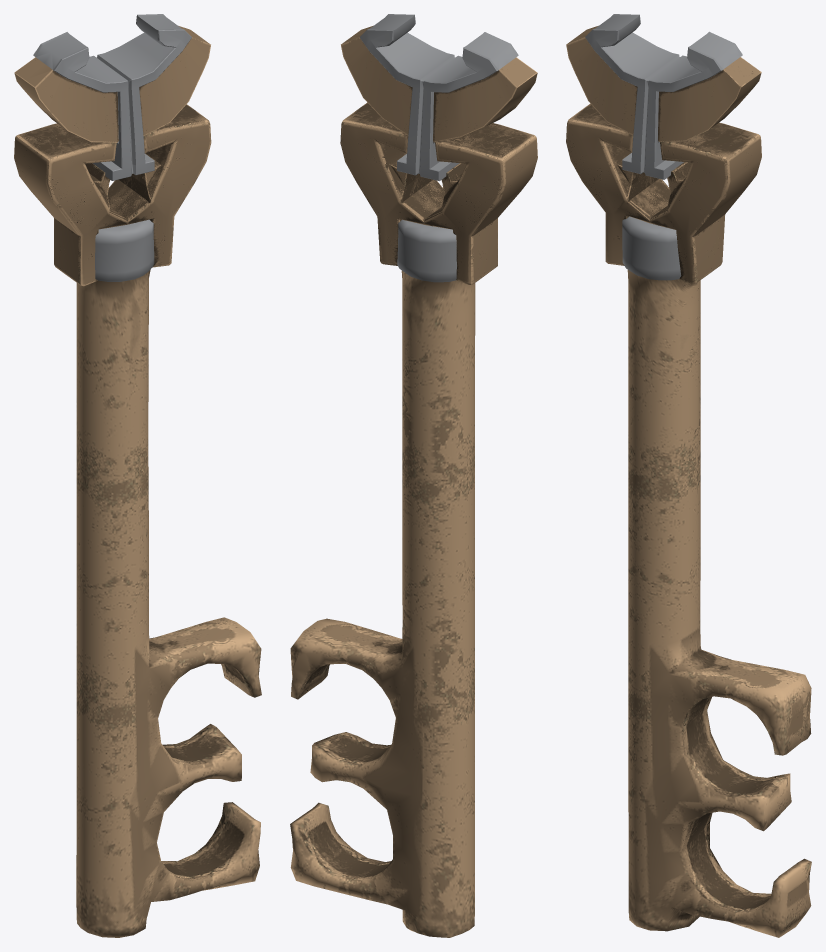
Rendered from keyv1.glb.
3 renders of one model, left to right at view 1: azimuth 30°, elevation 25°; view 2: azimuth 150°, elevation 25°; view 3: azimuth 330°, elevation 25°, orthographic.
Parts seen in each view (by area): view 1: pCylinder6; view 2: pCylinder6; view 3: pCylinder6.
Boxes of the visible parts, <box> form: pCylinder6: <box>14,14,261,937</box>; pCylinder6: <box>290,14,537,937</box>; pCylinder6: <box>566,14,811,937</box>.
Bounding box in the file's own units: 0.477 × 1.83 × 0.1569.
5 materials, 5 textured.
